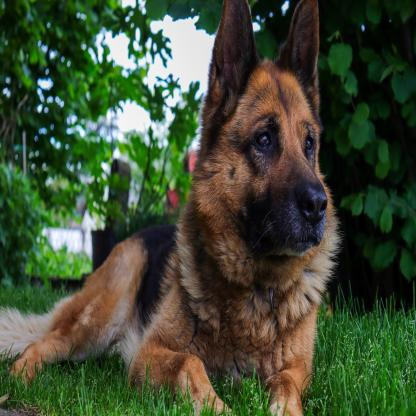german shepherd: (19, 7, 339, 416)
